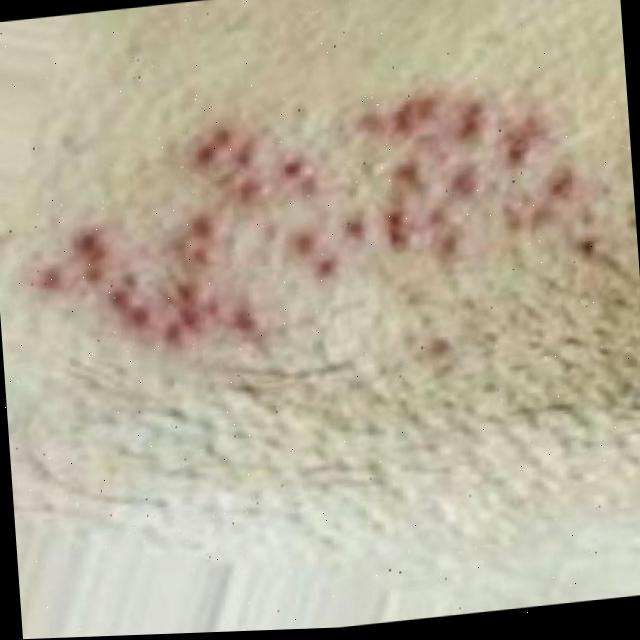Shingles: (40, 68, 603, 356)
